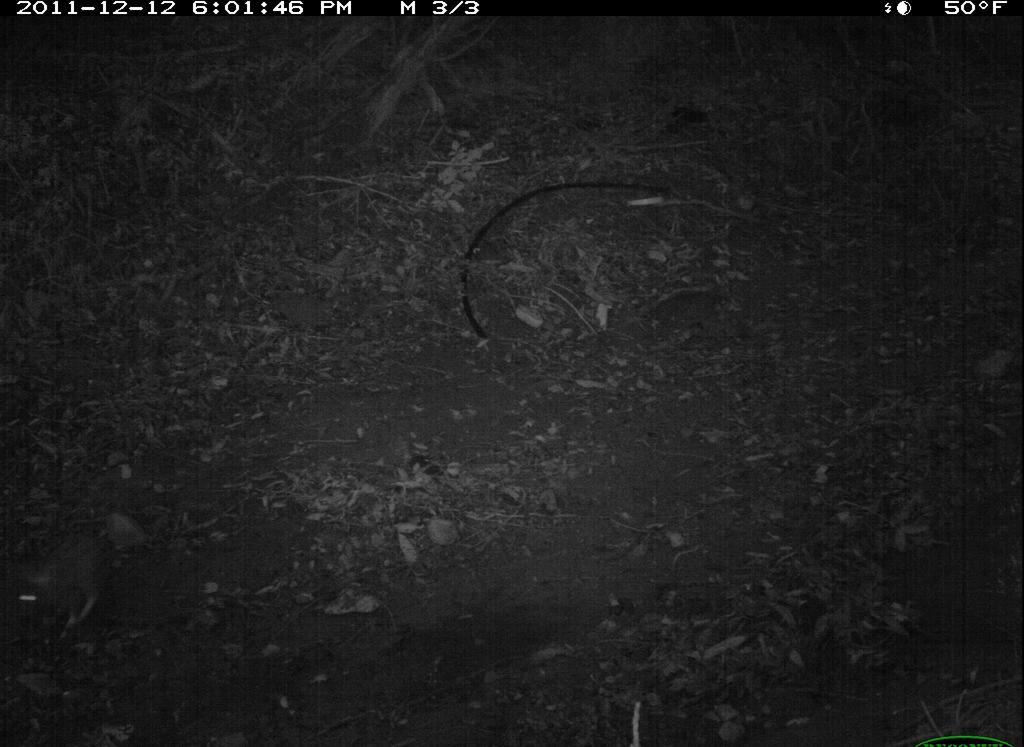rabbit: (2, 501, 118, 646)
